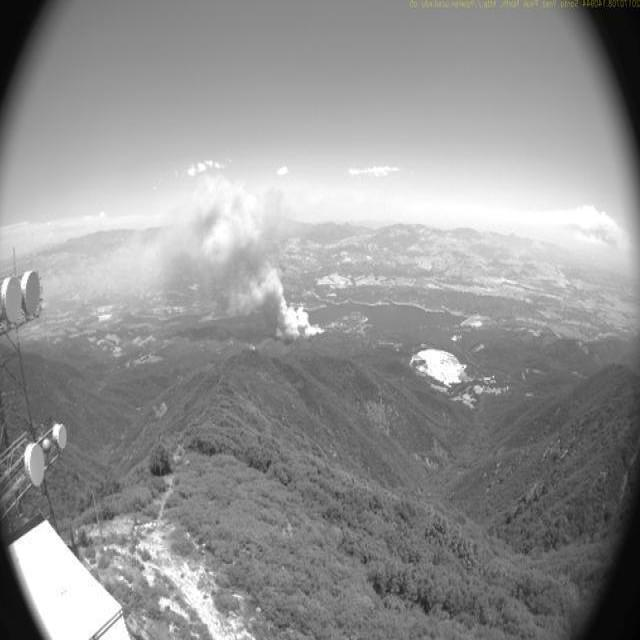Smoke: (80, 152, 328, 345)
